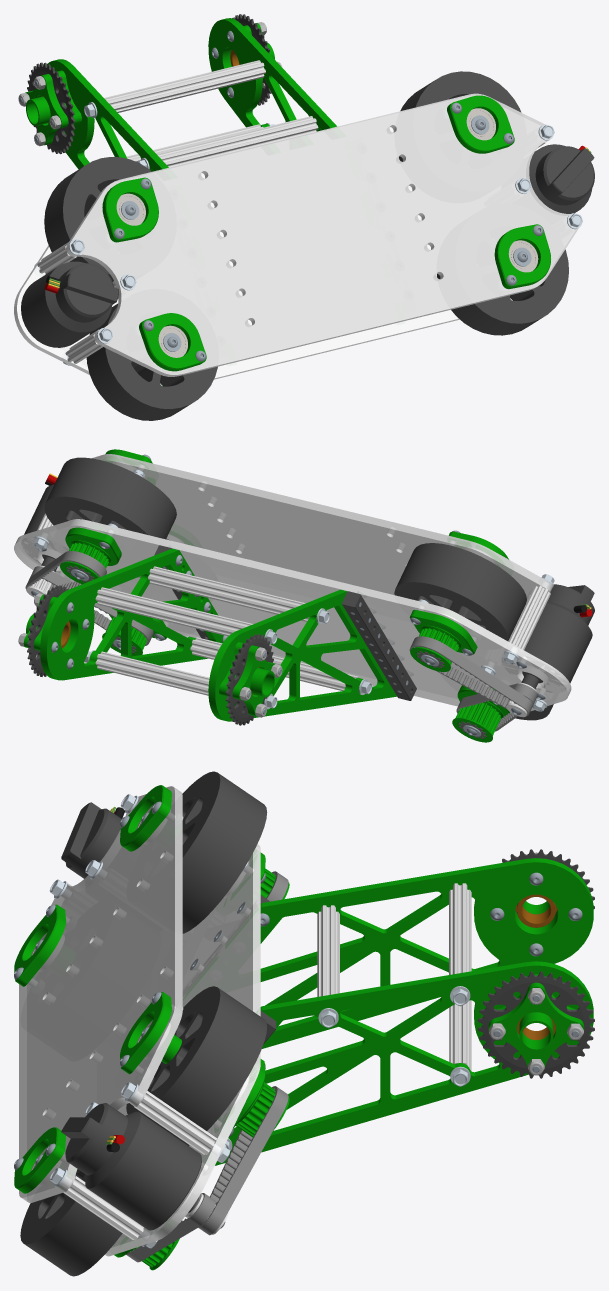
The picture shows the model from 3 angles, top to bottom: view 1: azimuth 30°, elevation 25°; view 2: azimuth 150°, elevation 25°; view 3: azimuth 270°, elevation 25°; orthographic projection. The views are drawn at different scales.
Visible parts, largest first — view 1: Top Plate, 4" Solid Urethane Wheel 1/2" Hex Bore - 45A (TTB-0106) (×4), Simplified Falcon500 V1/V2 (×2), Plate (×2), Bearing Hat (×4), 1/2 Churro X 6" Long (×3), Base Plate, 36t Aluminum Plate Sprocket (#25 Chain, SplineXL Bore) (×2), 1/2 Churro X 2.25" Long (×2), Bushing Hat, Bushing Spacer; view 2: Top Plate, Base Plate, Plate (×2), 4" Solid Urethane Wheel 1/2" Hex Bore - 45A (TTB-0106) (×2), 1/2 Churro X 6" Long (×4), Simplified Falcon500 V1/V2 (×2), 50T HTD Belt (×4), 22T Custom Pulley (×4), Bearing Hat (×4), 36t Aluminum Plate Sprocket (#25 Chain, SplineXL Bore) (×2), Aluminum Nutstrip, #10-32, .500" Spacing (WCP-0336), 1/2 Churro X 2.25" Long (+2 smaller); view 3: Plate (×2), Top Plate, 4" Solid Urethane Wheel 1/2" Hex Bore - 45A (TTB-0106) (×3), Simplified Falcon500 V1/V2 (×2), Base Plate, Bearing Hat (×4), 1/2 Churro X 6" Long (×3), 36t Aluminum Plate Sprocket (#25 Chain, SplineXL Bore), 50T HTD Belt (×2), 1/2 Churro X 2.25" Long (×2), Bushing Hat, 22T Custom Pulley (+2 smaller).
Part boxes in pixels (box(x1,y1,x2,y2)): Top Plate: box(66, 93, 578, 376); 4" Solid Urethane Wheel 1/2" Hex Bore - 45A (TTB-0106) (×4): box(44, 71, 568, 420); Simplified Falcon500 V1/V2 (×2): box(21, 144, 594, 347); Plate (×2): box(47, 18, 336, 191); Bearing Hat (×4): box(102, 95, 550, 371); 1/2 Churro X 6" Long (×3): box(104, 60, 318, 167); Base Plate: box(14, 127, 512, 385); 36t Aluminum Plate Sprocket (#25 Chain, SplineXL Bore) (×2): box(27, 14, 271, 154); 1/2 Churro X 2.25" Long (×2): box(37, 242, 103, 363); Bushing Hat: box(25, 74, 68, 145); Bushing Spacer: box(26, 96, 50, 125); Top Plate: box(92, 454, 552, 604); Base Plate: box(14, 519, 571, 710); Plate (×2): box(40, 548, 396, 721); 4" Solid Urethane Wheel 1/2" Hex Bore - 45A (TTB-0106) (×2): box(44, 457, 526, 641); 1/2 Churro X 6" Long (×4): box(95, 566, 358, 695); Simplified Falcon500 V1/V2 (×2): box(22, 473, 594, 692); 50T HTD Belt (×4): box(25, 551, 537, 731); 22T Custom Pulley (×4): box(60, 540, 503, 742); Bearing Hat (×4): box(65, 449, 508, 654); 36t Aluminum Plate Sprocket (#25 Chain, SplineXL Bore) (×2): box(27, 585, 273, 725); Aluminum Nutstrip, #10-32, .500" Spacing (WCP-0336): box(342, 591, 416, 700); 1/2 Churro X 2.25" Long: box(508, 585, 550, 651); Plate (×2): box(183, 858, 593, 1165); Top Plate: box(19, 786, 182, 1202); 4" Solid Urethane Wheel 1/2" Hex Bore - 45A (TTB-0106) (×3): box(20, 771, 267, 1276); Simplified Falcon500 V1/V2 (×2): box(61, 802, 201, 1230); Base Plate: box(105, 844, 260, 1256); Bearing Hat (×4): box(14, 785, 171, 1193); 1/2 Churro X 6" Long (×3): box(317, 883, 471, 1070); 36t Aluminum Plate Sprocket (#25 Chain, SplineXL Bore): box(477, 971, 594, 1078); 50T HTD Belt (×2): box(126, 1086, 288, 1262); 1/2 Churro X 2.25" Long (×2): box(63, 1091, 217, 1240); Bushing Hat: box(488, 982, 584, 1066); 22T Custom Pulley: box(236, 1082, 289, 1137).
Size of the model in its own units: 0.5189 by 0.1954 by 0.3775.
